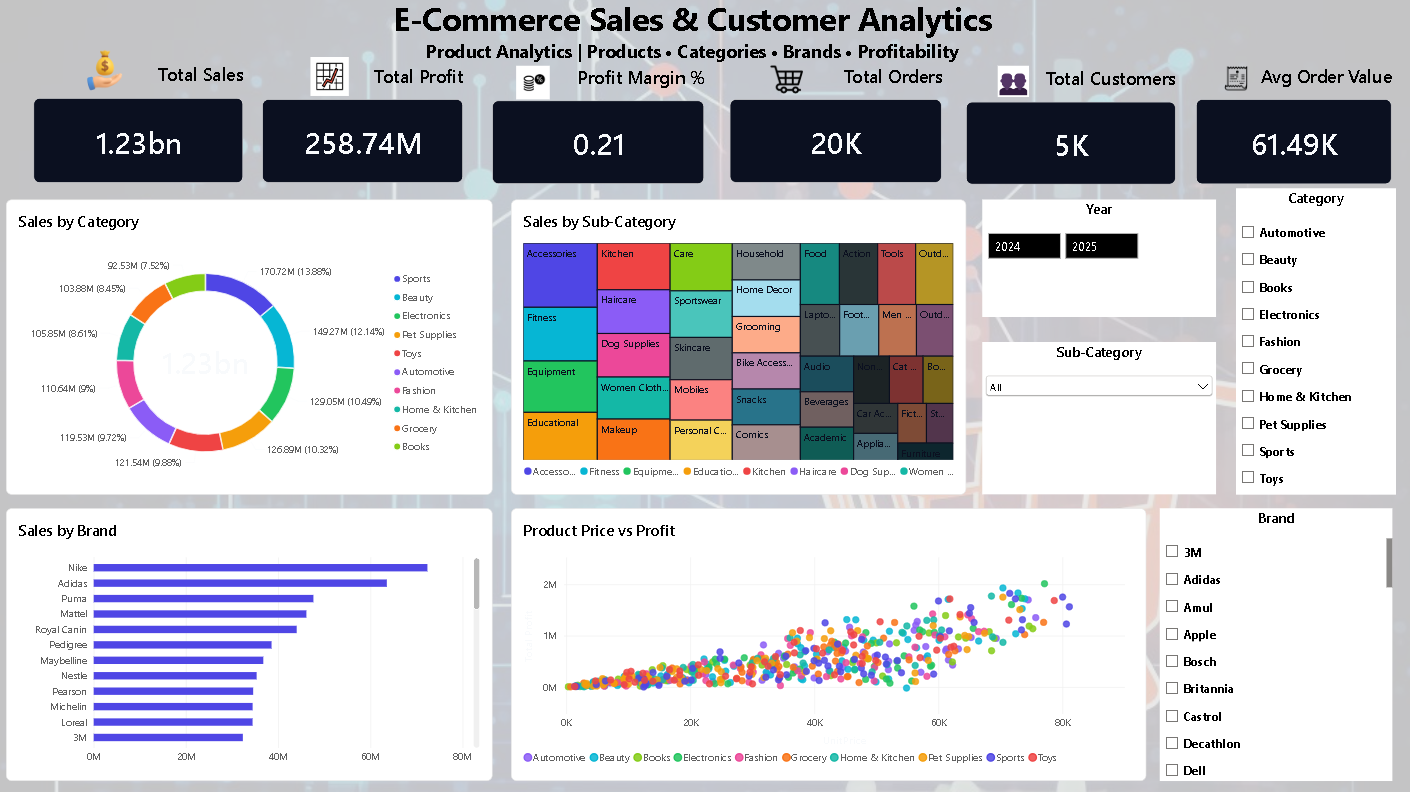

This screenshot's page, from the dashboard's own definition file:
{"tool":"powerbi","page":{"name":"Product Analytics","canvas":[1920,1080],"ordinal":2},"visuals":[{"type":"textbox","box":[116.9,0,1653.1,130.2],"z":0},{"type":"cardVisual","title":"Total Sales","fields":{"Data":["FactSales.Total Sales"]},"box":[50.8,88.1,284.5,164.3],"z":1000},{"type":"cardVisual","title":"Total Profit","fields":{"Data":["FactSales.Total Profit"]},"box":[360.8,89.8,272.7,162.6],"z":2000},{"type":"cardVisual","title":"Avg Order Value","fields":{"Data":["FactSales.Average Order Value"]},"box":[1626,89.8,265.9,164.3],"z":3000},{"type":"cardVisual","title":"Total Orders","fields":{"Data":["FactSales.Total Orders"]},"box":[994.2,89.8,287.9,162.6],"z":4000},{"type":"cardVisual","title":"Profit Margin %","fields":{"Data":["FactSales.Profit Margin %"]},"box":[672.4,91.5,287.9,162.6],"z":5000},{"type":"cardVisual","title":"Total Customers","fields":{"Data":["FactSales.Total Customers"]},"box":[1314.3,93.2,284.5,160.9],"z":6000},{"type":"slicer","title":"Year ","fields":{"Values":["DimDate.Year"]},"box":[1336.4,274.4,316.7,159.2],"z":7000},{"type":"slicer","title":"Category","fields":{"Values":["DimProduct.Category"]},"box":[1680.2,259.1,216.8,415],"z":8000},{"type":"image","box":[74.5,66.1,145.7,69.4],"z":9000},{"type":"image","box":[326.9,81.3,250.7,52.5],"z":10000},{"type":"image","box":[577.6,93.2,299.8,45.7],"z":11000},{"type":"image","box":[921.4,89.8,299.8,44],"z":12000},{"type":"image","box":[1238.1,93.2,281.2,42.3],"z":13000},{"type":"image","box":[1536.2,89.8,287.9,40.6],"z":14000},{"type":"donutChart","title":"Sales by Category","fields":{"Category":["DimProduct.Category"],"Y":["FactSales.Total Sales"]},"box":[13.5,274.4,658.9,399.7],"z":15000},{"type":"clusteredBarChart","title":"Sales by Brand","fields":{"Category":["DimProduct.Brand"],"Y":["FactSales.Total Sales"]},"box":[13.5,692.7,658.9,369.2],"z":16000},{"type":"treemap","title":"Sales by Sub-Category","fields":{"Group":["DimProduct.SubCategory"],"Values":["FactSales.Total Sales"]},"box":[697.8,274.4,616.5,399.7],"z":17000},{"type":"scatterChart","title":"Product Price vs Profit","fields":{"X":["DimProduct.UnitPrice"],"Y":["FactSales.Total Profit"],"Series":["DimProduct.Category"]},"box":[697.8,692.7,860.4,369.2],"z":18000},{"type":"slicer","title":"Sub-Category","fields":{"Values":["DimProduct.SubCategory"]},"box":[1336.4,467.5,316.7,206.6],"z":19000},{"type":"slicer","title":"Brand","fields":{"Values":["DimProduct.Brand"]},"box":[1576.9,692.7,315,369.2],"z":20000}]}

Visuals, with their boxes in screenshot pixels (x1, y1, x2, y2), scaled from the page's 1920x1080 canvas onto the 1410x792 screenshot:
textbox: x1=86 y1=0 x2=1300 y2=95
"Total Sales" cardVisual: x1=37 y1=65 x2=246 y2=185
"Total Profit" cardVisual: x1=265 y1=66 x2=465 y2=185
"Avg Order Value" cardVisual: x1=1194 y1=66 x2=1389 y2=186
"Total Orders" cardVisual: x1=730 y1=66 x2=942 y2=185
"Profit Margin %" cardVisual: x1=494 y1=67 x2=705 y2=186
"Total Customers" cardVisual: x1=965 y1=68 x2=1174 y2=186
"Year " slicer: x1=981 y1=201 x2=1214 y2=318
"Category" slicer: x1=1234 y1=190 x2=1393 y2=494
image: x1=55 y1=48 x2=162 y2=99
image: x1=240 y1=60 x2=424 y2=98
image: x1=424 y1=68 x2=644 y2=102
image: x1=677 y1=66 x2=897 y2=98
image: x1=909 y1=68 x2=1116 y2=99
image: x1=1128 y1=66 x2=1340 y2=96
"Sales by Category" donutChart: x1=10 y1=201 x2=494 y2=494
"Sales by Brand" clusteredBarChart: x1=10 y1=508 x2=494 y2=779
"Sales by Sub-Category" treemap: x1=512 y1=201 x2=965 y2=494
"Product Price vs Profit" scatterChart: x1=512 y1=508 x2=1144 y2=779
"Sub-Category" slicer: x1=981 y1=343 x2=1214 y2=494
"Brand" slicer: x1=1158 y1=508 x2=1389 y2=779
